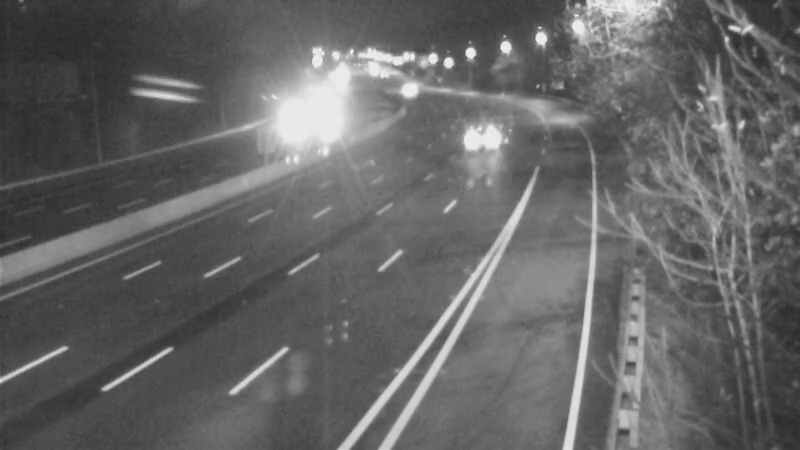vehicle: (381, 63, 431, 113), (459, 116, 509, 166)
